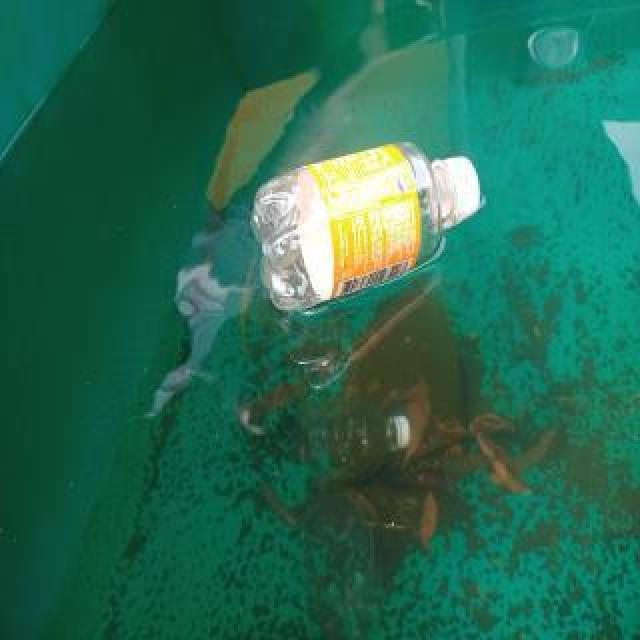bottle: (248, 138, 480, 312)
